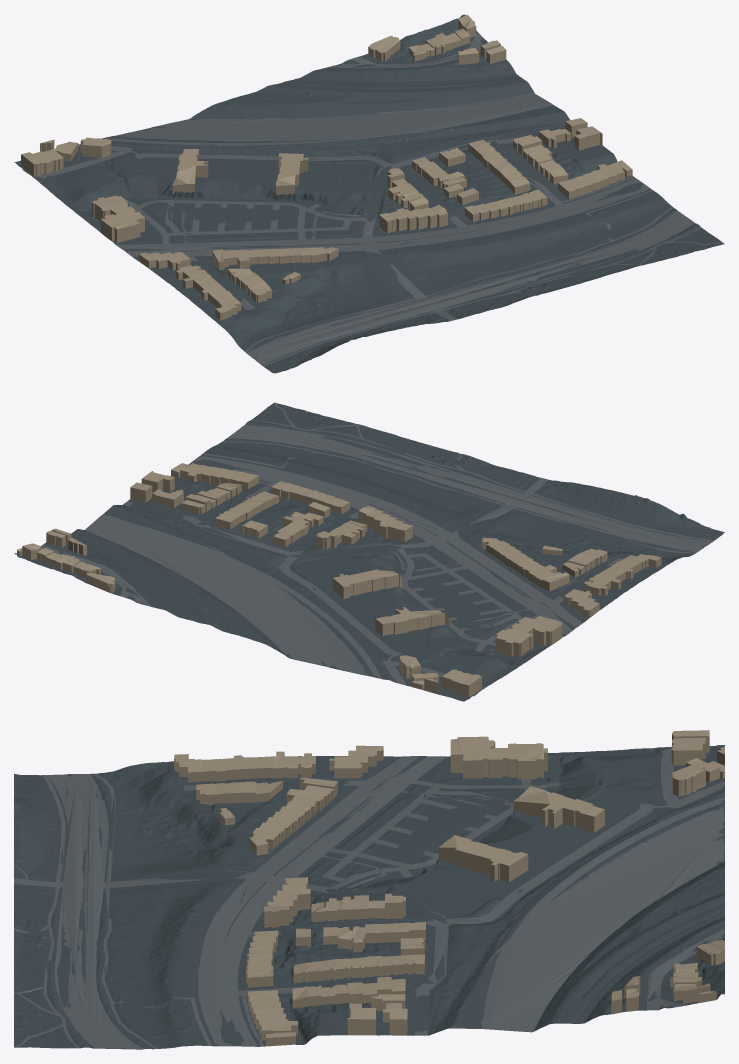
The model's file is epsg26910-1424-10869.lod0.glb.
3 renders of one model, top to bottom at view 1: azimuth 30°, elevation 25°; view 2: azimuth 150°, elevation 25°; view 3: azimuth 270°, elevation 25°, orthographic. The views are drawn at different scales.
Visible parts, largest first — view 1: epsg26910-1424-10869-lod0; view 2: epsg26910-1424-10869-lod0; view 3: epsg26910-1424-10869-lod0.
Part boxes in pixels (x1,y1,x2,y2): epsg26910-1424-10869-lod0: [14, 14, 724, 373]; epsg26910-1424-10869-lod0: [14, 402, 724, 701]; epsg26910-1424-10869-lod0: [14, 730, 724, 1049].
Bounding box in the file's own units: 384 × 52.32 × 384.
